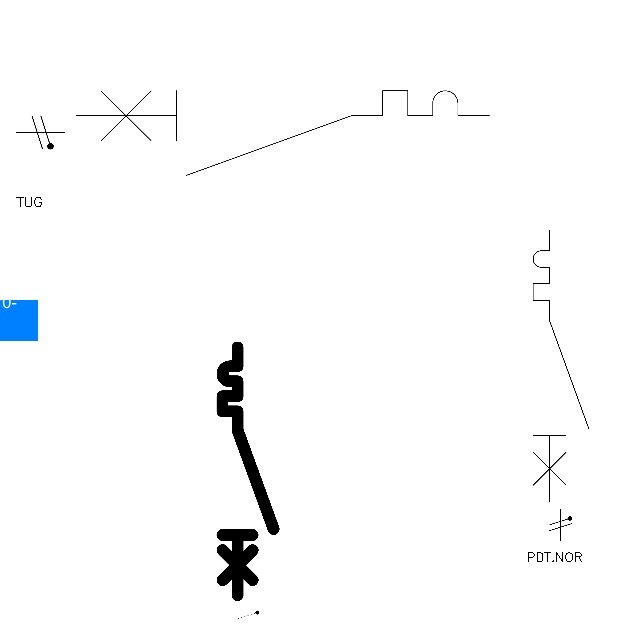interruptor_termomagnetico: (65, 80, 500, 186), (526, 223, 596, 508), (216, 341, 279, 602)
